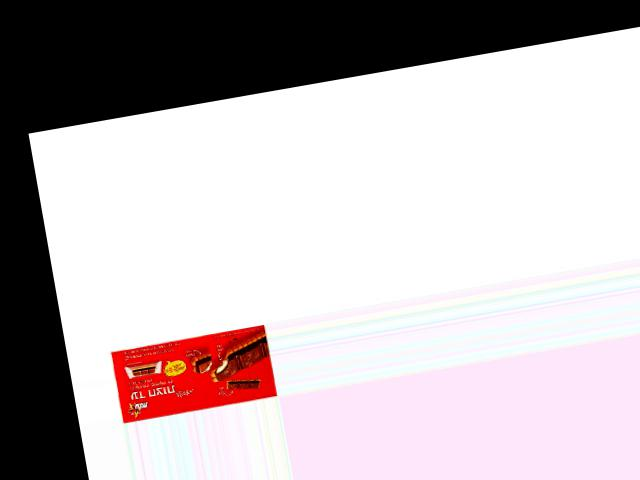chocolate: (108, 324, 277, 424)
